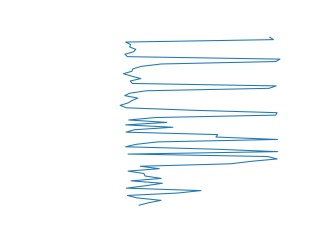crevasseRiverChannelBar: (120, 159, 274, 209)
majorRiverBedLagDeposit: (117, 119, 283, 160)
majorRiverChannelBar: (117, 35, 281, 115)
